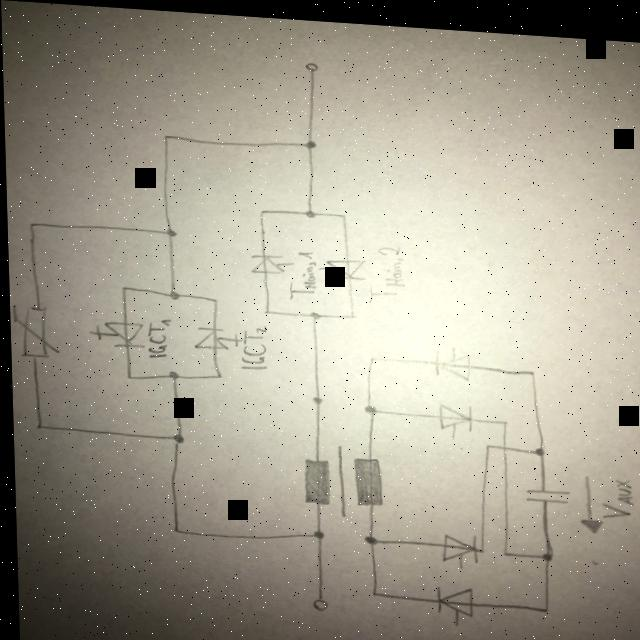capacitor: (518, 480, 568, 500)
crossover: (495, 437, 505, 446)
junction: (167, 431, 182, 443), (164, 287, 177, 300), (536, 543, 549, 556), (161, 225, 175, 237), (307, 525, 321, 537), (359, 530, 373, 542), (359, 400, 373, 412), (301, 136, 315, 147), (529, 439, 541, 451), (163, 369, 176, 380), (300, 206, 314, 216), (305, 308, 319, 317), (207, 294, 217, 303), (115, 283, 125, 292), (336, 207, 346, 216), (159, 131, 168, 140), (344, 308, 354, 316), (535, 599, 545, 607), (255, 205, 264, 213), (480, 436, 488, 445), (496, 412, 505, 420), (497, 543, 505, 552), (24, 221, 32, 230), (166, 526, 176, 533), (210, 371, 221, 377), (122, 372, 130, 380), (524, 363, 532, 371), (364, 351, 372, 359), (365, 586, 374, 593), (258, 306, 268, 312), (473, 542, 481, 549), (30, 424, 38, 430)
terminal: (307, 592, 323, 610), (301, 58, 318, 71)
text: (362, 239, 404, 301), (284, 247, 315, 298), (235, 320, 266, 370), (595, 470, 630, 513), (141, 315, 171, 359)
thyristor: (88, 318, 143, 349), (188, 322, 239, 349), (430, 579, 469, 612), (430, 345, 469, 377), (436, 527, 473, 560), (434, 398, 469, 428), (322, 253, 365, 277), (247, 250, 284, 273)
transformer: (297, 438, 381, 516)
